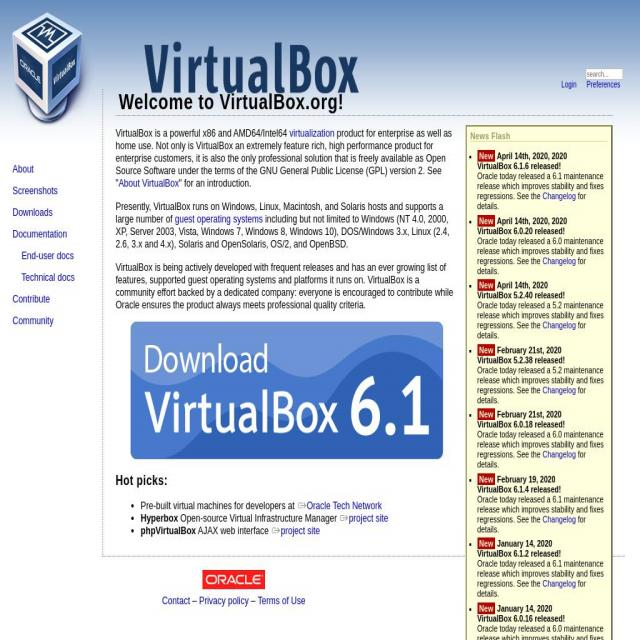login-option: (559, 78, 579, 94)
navigation-links: (4, 150, 85, 353)
search: (585, 67, 630, 93)
